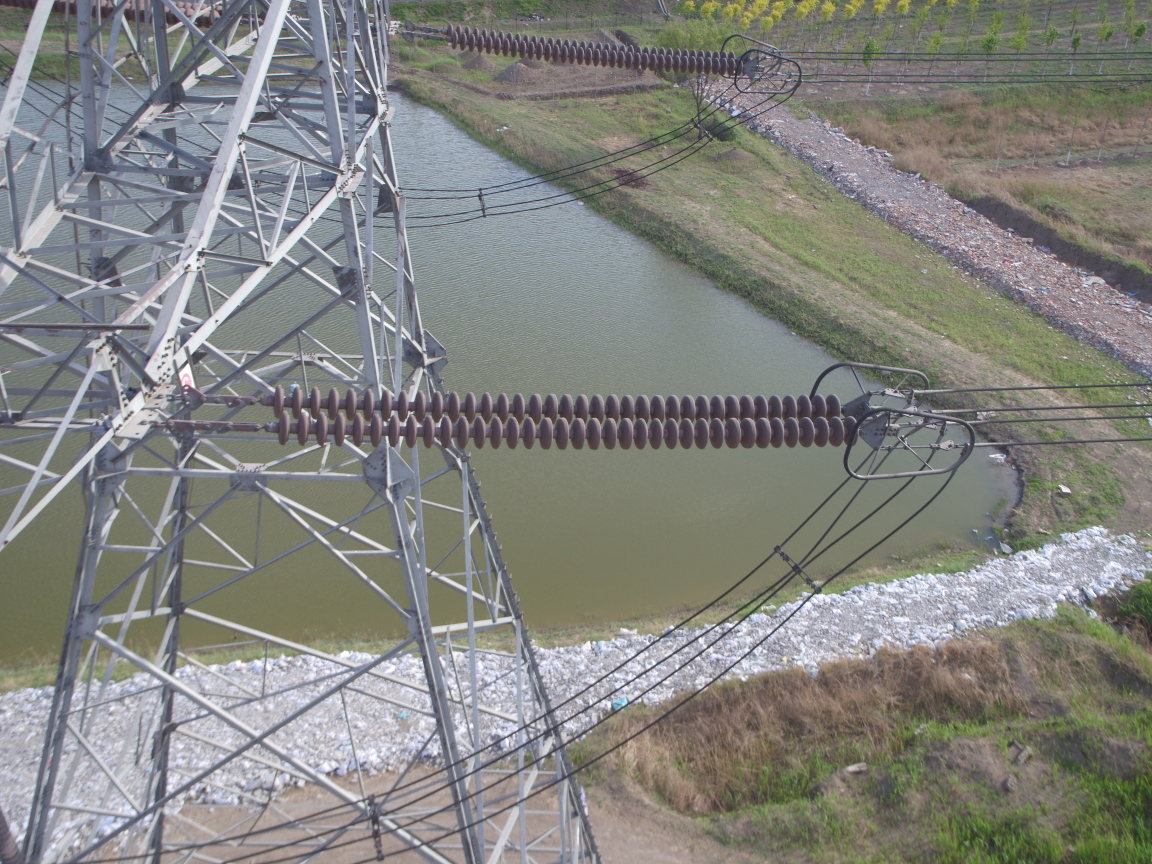insulator: (221, 381, 872, 453), (423, 20, 751, 79)
